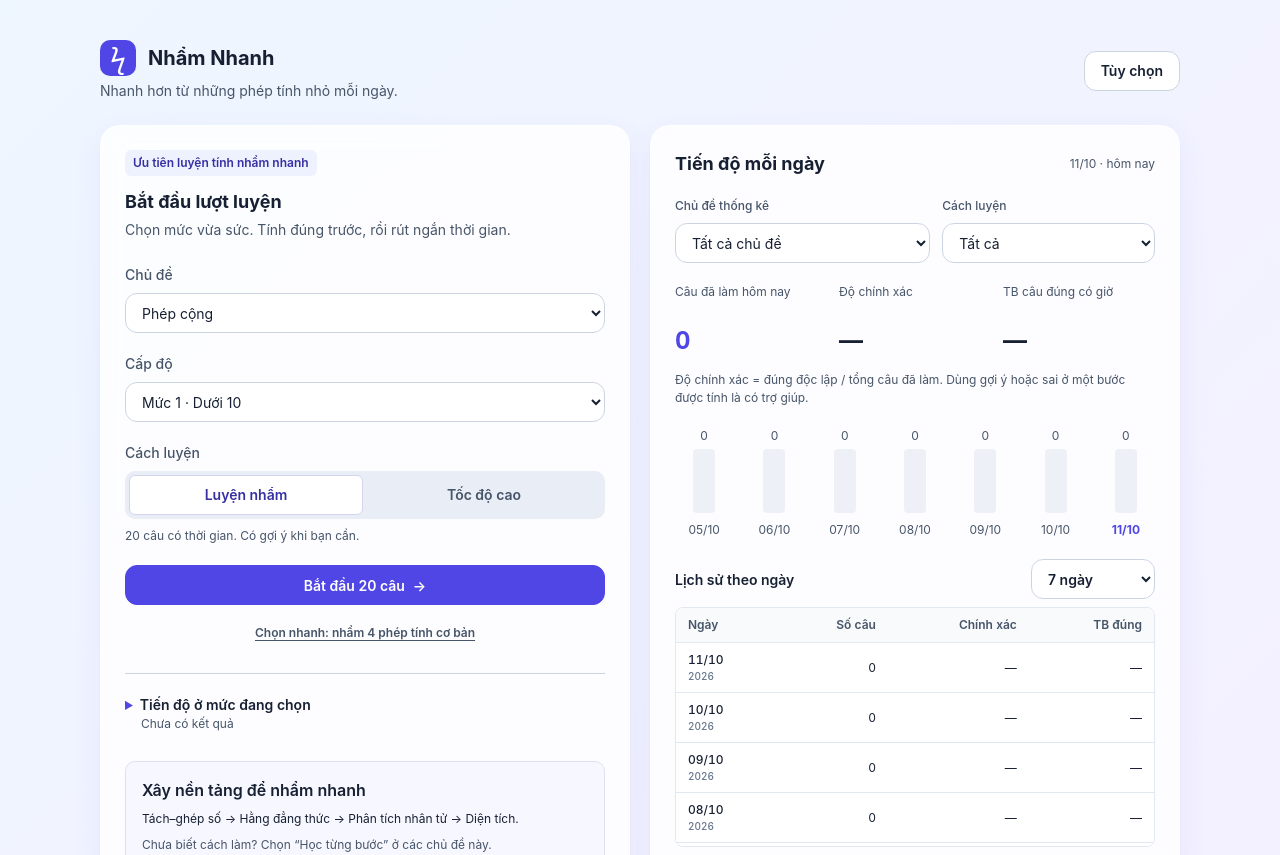
Test: Actual React session lifecycle › rejects practice when browser locks are unavailable
Click the button "Bắt đầu 20 câu →" at (365, 585), box [125,565,605,605]
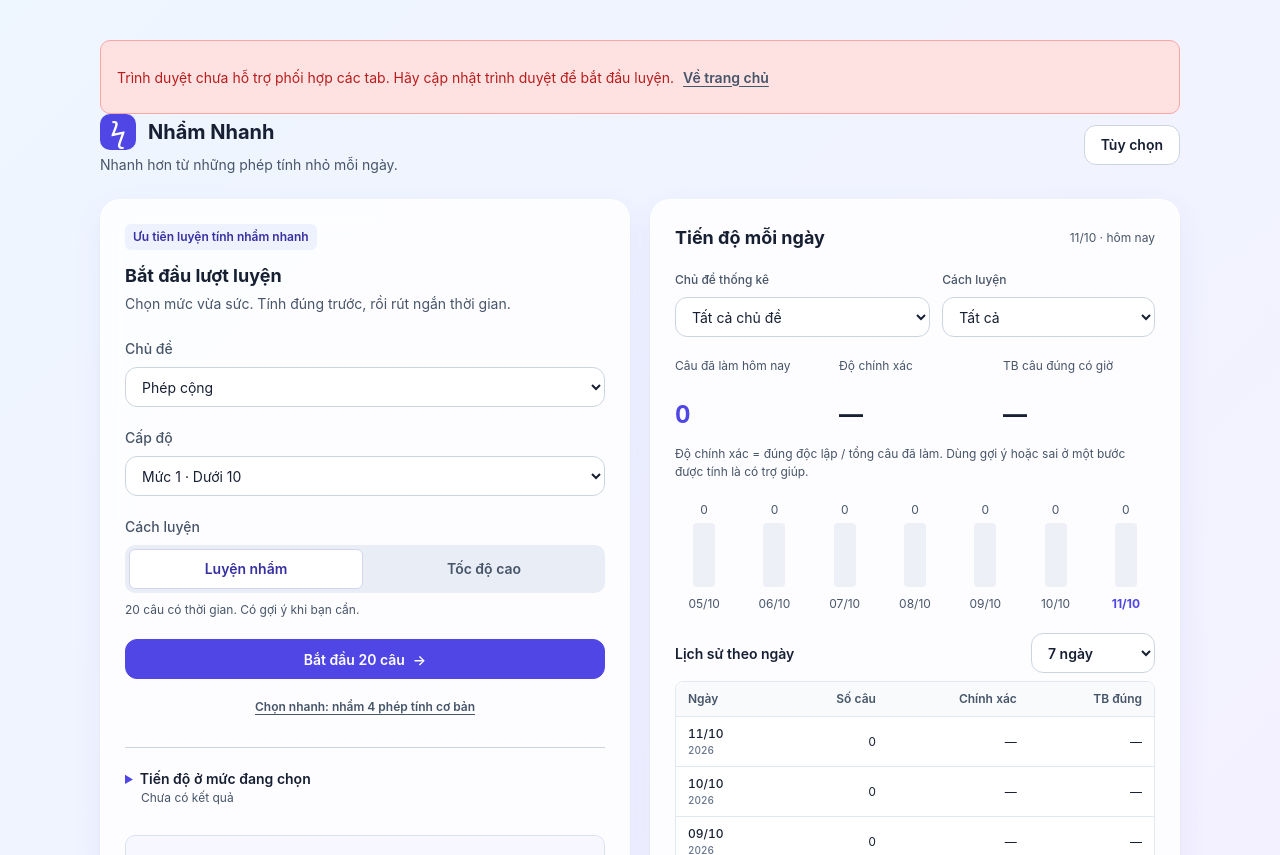
Expected: the text "Hãy cập nhật trình duyệt" is shown, [117,68,674,86]
